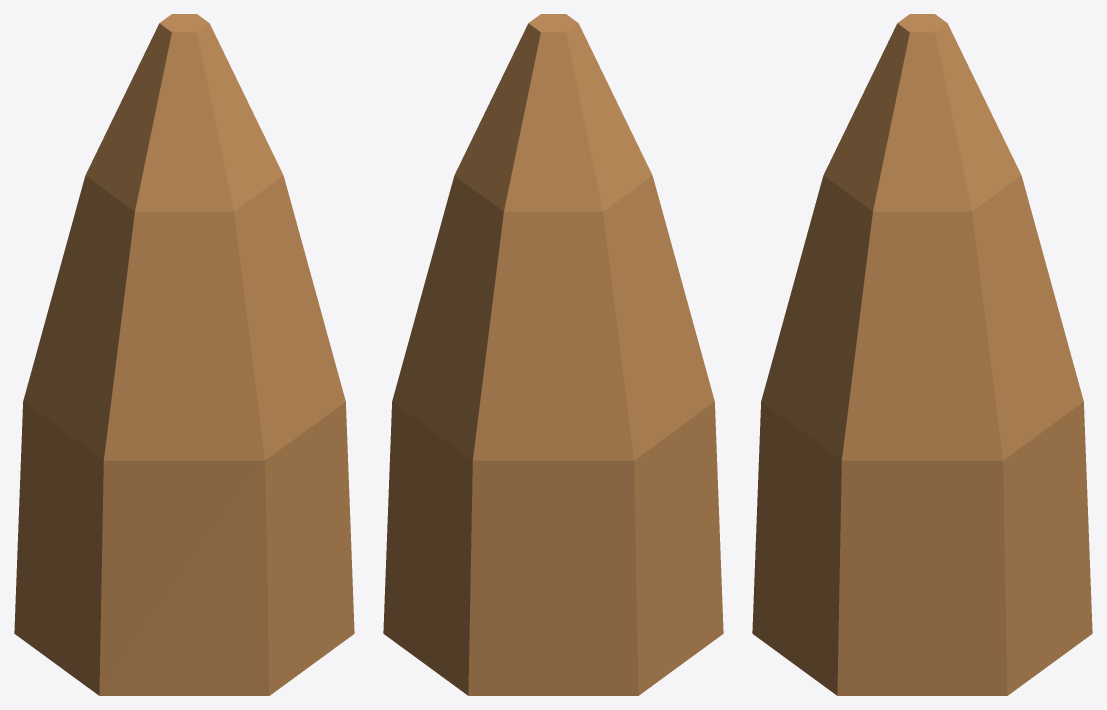
Rendered from 762x39bullet.glb.
3 renders of one model, left to right at view 1: azimuth 30°, elevation 25°; view 2: azimuth 150°, elevation 25°; view 3: azimuth 270°, elevation 25°, orthographic.
Parts seen in each view (by area): view 1: 7.62x39mm_Bullet_Cylinder.009; view 2: 7.62x39mm_Bullet_Cylinder.009; view 3: 7.62x39mm_Bullet_Cylinder.009.
Boxes of the visible parts, bbox=[...] form: 7.62x39mm_Bullet_Cylinder.009: bbox=[14, 14, 354, 695]; 7.62x39mm_Bullet_Cylinder.009: bbox=[383, 14, 723, 695]; 7.62x39mm_Bullet_Cylinder.009: bbox=[752, 14, 1092, 695].
Size of the model in its own units: 0.0568 by 0.1298 by 0.0656.
